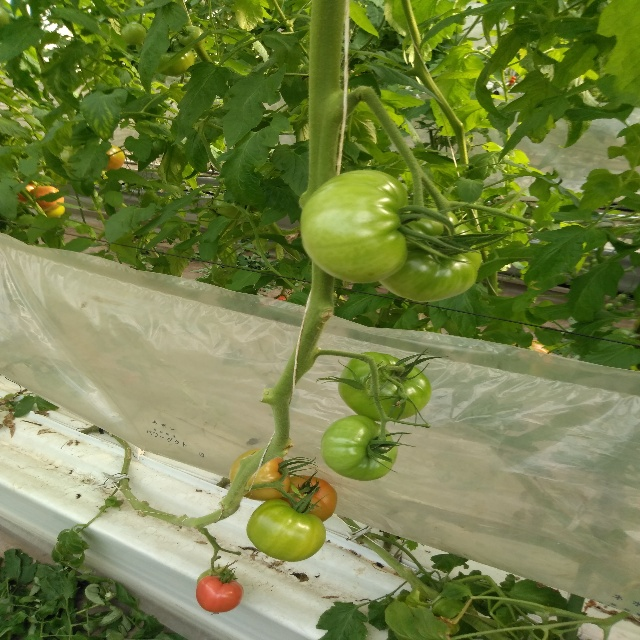b_fully_ripened: (196, 576, 244, 613)
b_green: (298, 169, 408, 284), (378, 208, 482, 302), (338, 351, 431, 422), (320, 414, 399, 482), (246, 498, 327, 562), (156, 40, 195, 76), (196, 566, 237, 588), (121, 22, 147, 46), (178, 26, 205, 49)
b_half_ripened: (229, 448, 290, 500), (279, 474, 338, 522), (29, 186, 64, 211), (103, 144, 126, 171)
